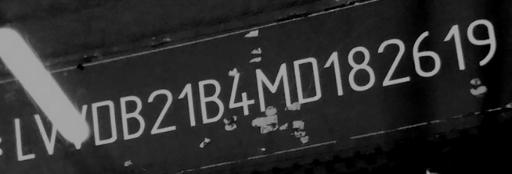letter: (254, 60, 292, 114), (465, 15, 501, 70), (374, 36, 414, 85), (410, 28, 444, 79), (145, 85, 179, 134), (292, 54, 324, 106), (33, 108, 67, 155), (441, 21, 471, 74), (344, 45, 378, 91), (88, 98, 120, 145), (7, 115, 39, 162), (62, 103, 92, 152), (226, 70, 256, 118), (196, 76, 226, 124), (117, 92, 147, 139), (323, 48, 347, 100), (176, 79, 198, 129)
